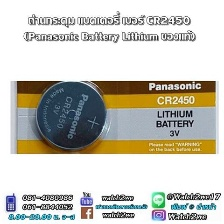battery: (32, 78, 110, 155)
book: (3, 71, 220, 159)
